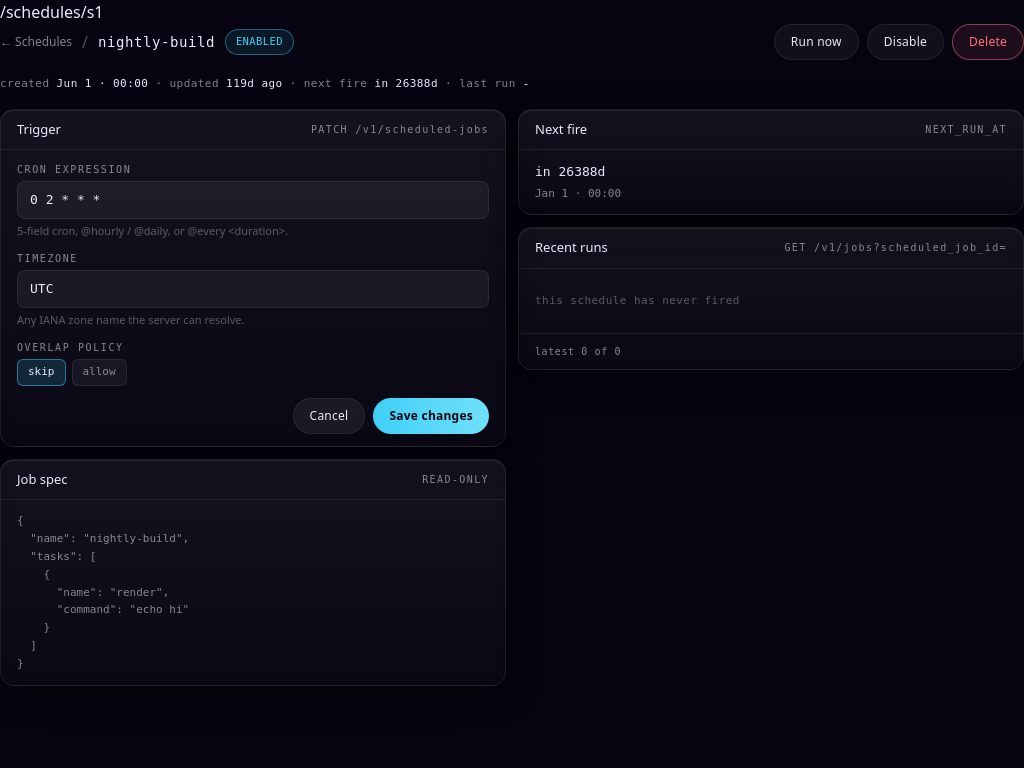
Delete opens a confirm whose copy states the verified consequences, and Cancel issues NO request
Expected: the text "nightly-build" is shown, top-left (98, 32), bottom-right (215, 52)
Click the button "Delete".
click(988, 42)  # box top-left (952, 24), bottom-right (1023, 60)
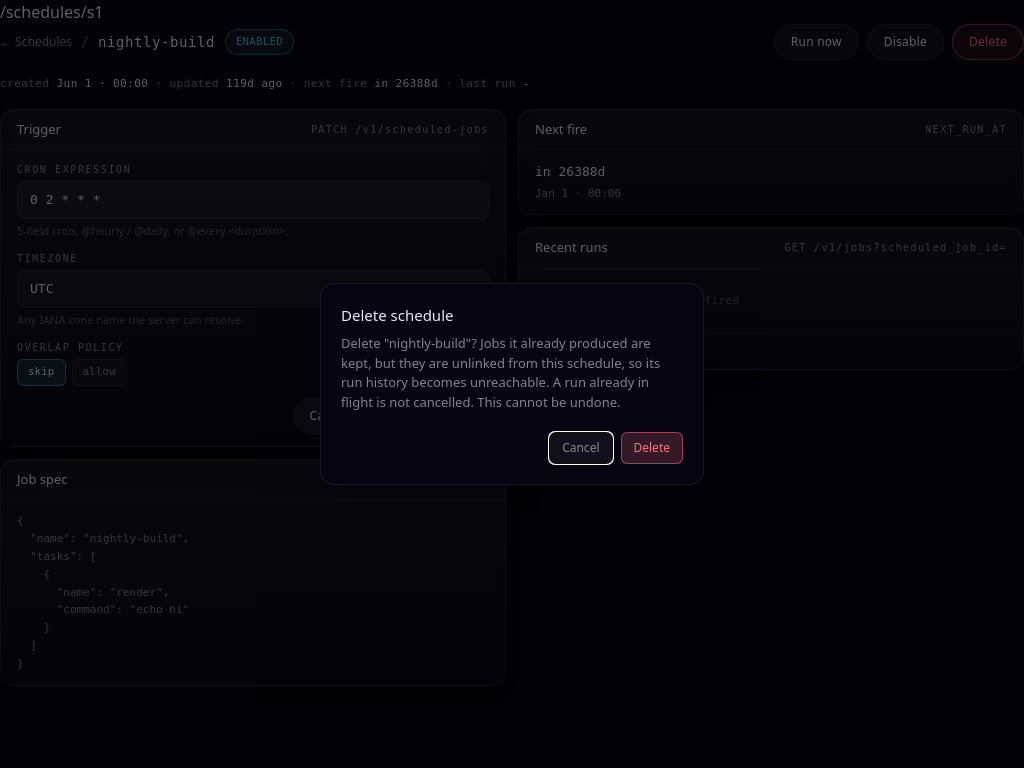
Now the dialog shows "unlinked", box top-left (341, 334), bottom-right (660, 411)
Now the dialog shows "not cancelled", box top-left (341, 334), bottom-right (660, 411)
Click the button "Cancel".
click(581, 448)  # box top-left (549, 432), bottom-right (612, 464)
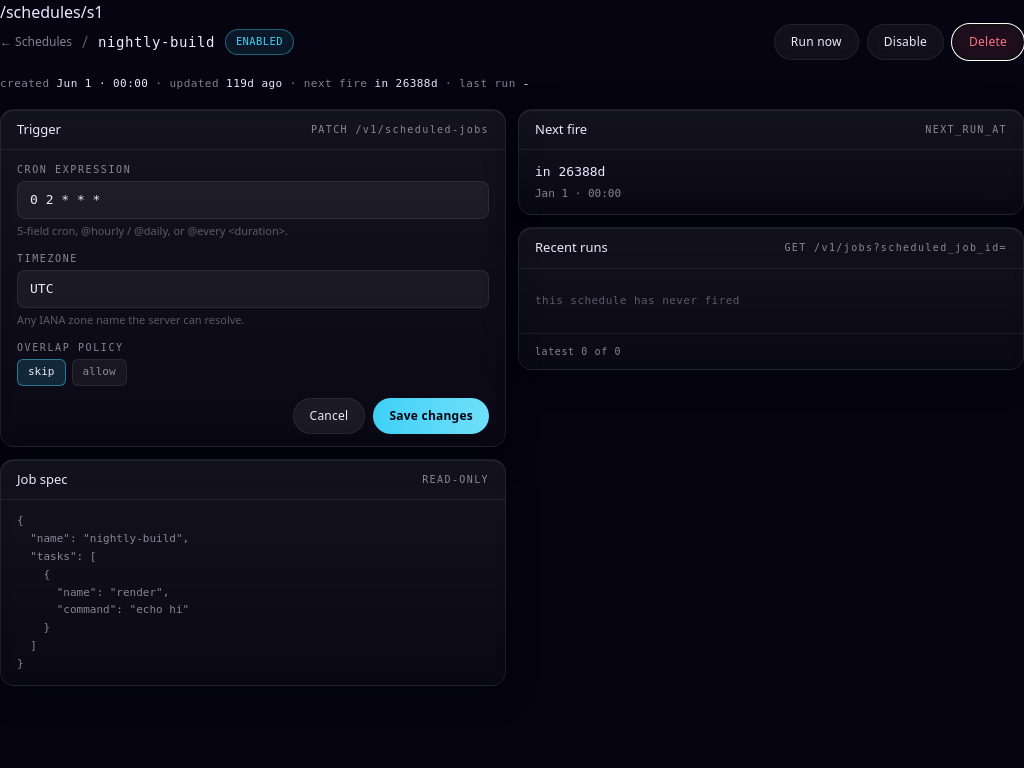
Now the dialog is gone
